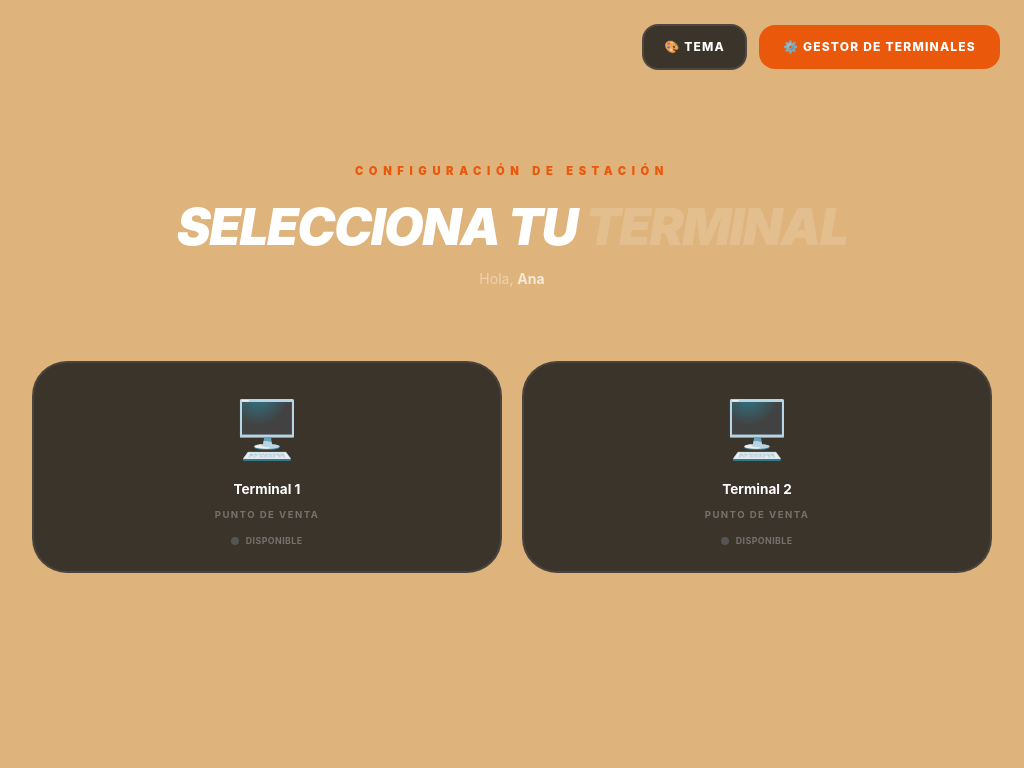
it: BUG-05 — handleSave propaga el error real del backend › cae a un mensaje genérico si el backend no da detalle
Click the button "⚙️ Gestor de Terminales" at x=880, y=47, box [759,25,1000,69]
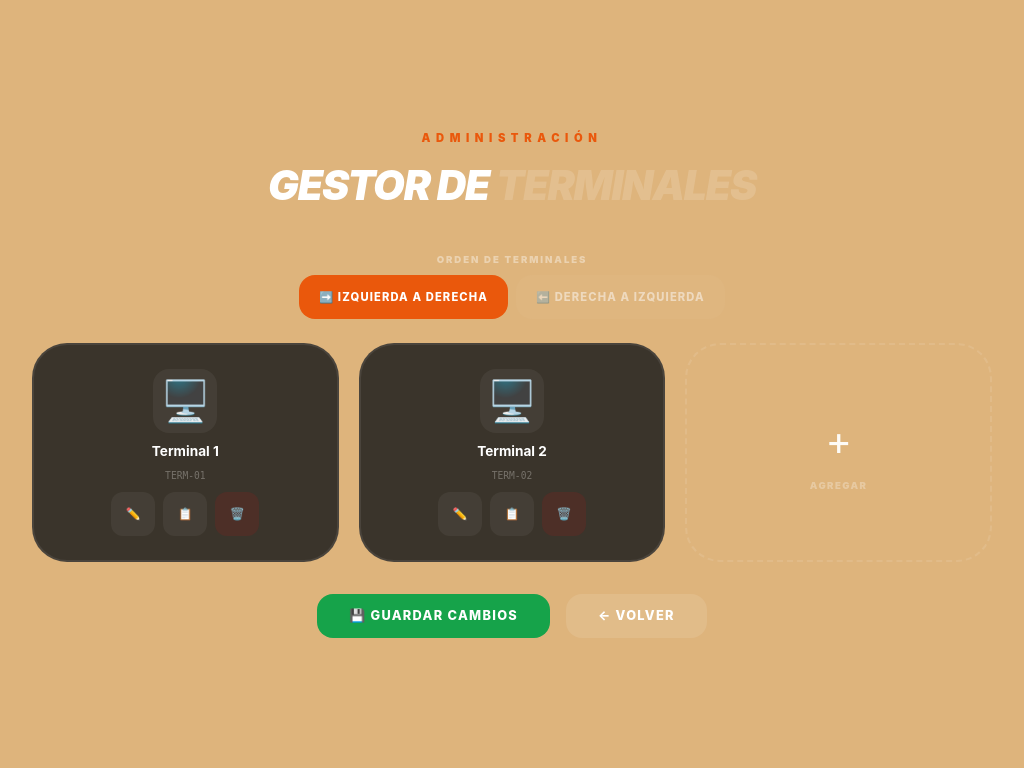
expect the button with test id "orden-izq-der" is shown: met, box [299,275,508,319]
Click the button "💾 Guardar cambios" at x=434, y=616, box [317,594,550,638]
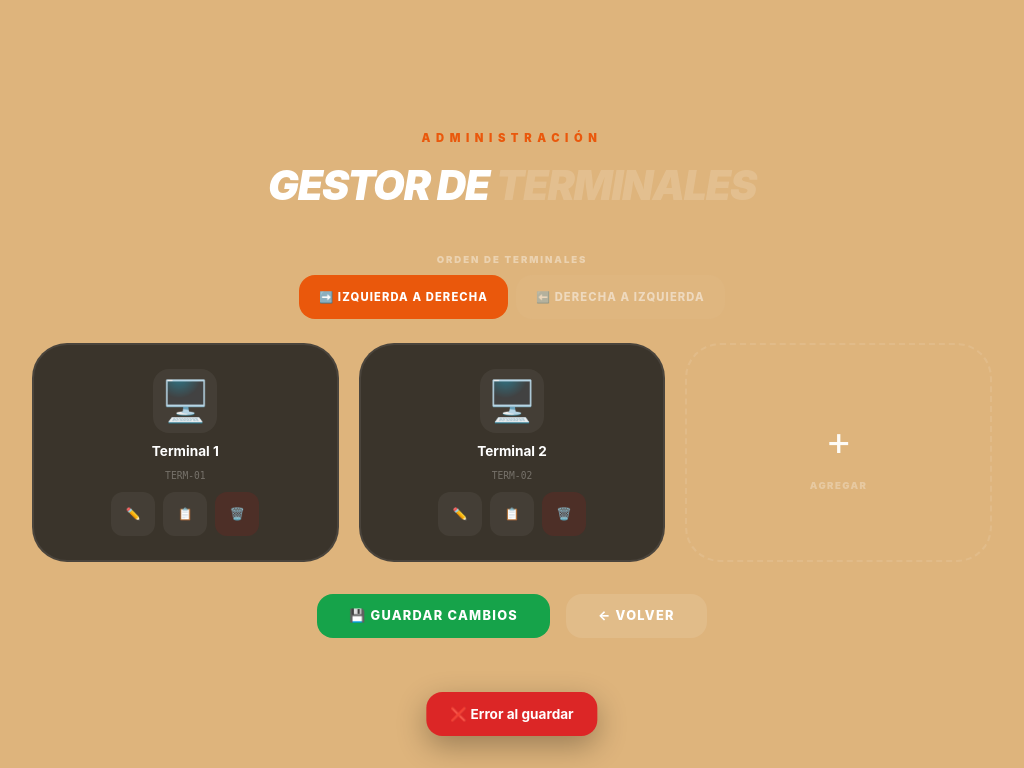
expect the text "❌ Error al guardar" is shown: met, box [426,692,598,736]
